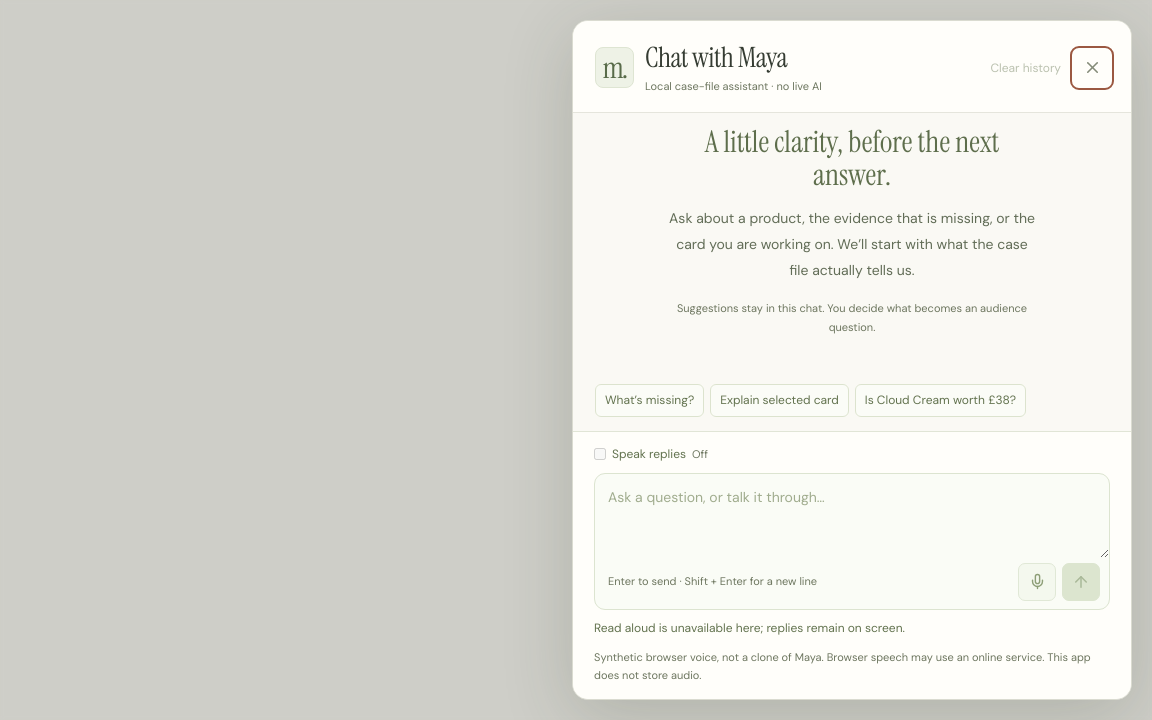
Test: chat input lifecycle with simulated browser events › retains current partial words on audio-capture error
(page scrolled)
Click the button named "Start dictation" at (1037, 582), box [1018,562,1056,600]
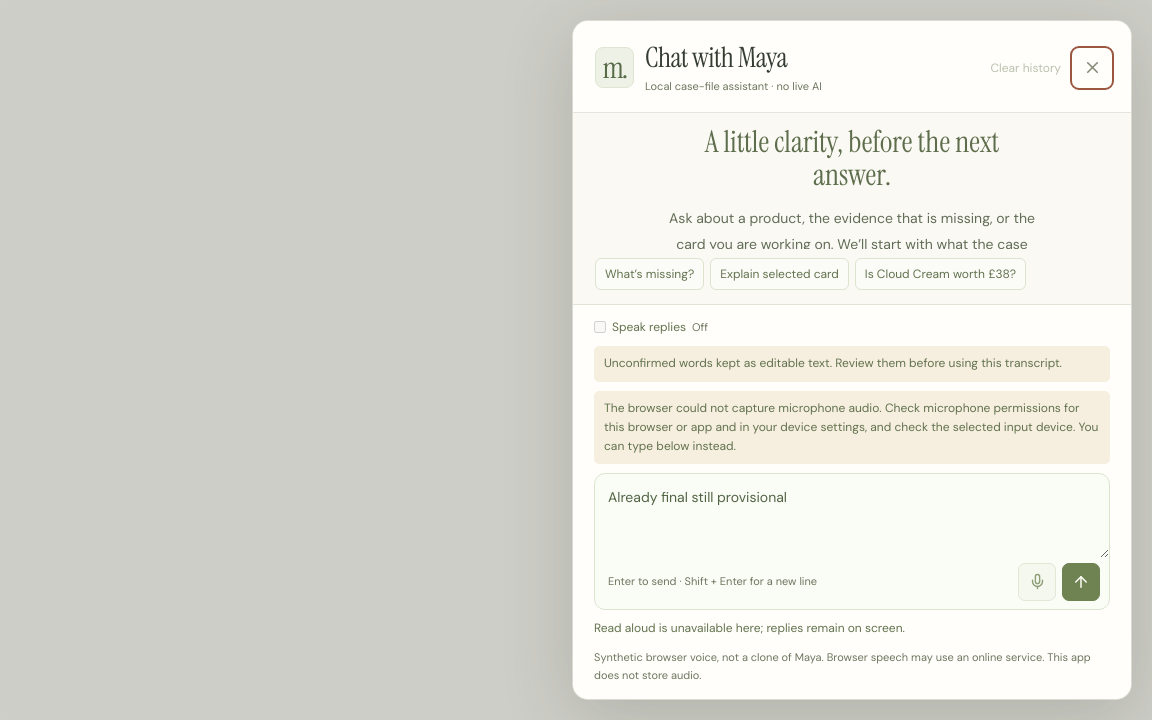
Expected: the text box holds "Already final still provisional", [595,474,1109,558]
Expected: the text "Unconfirmed words kept as editable text. Review them before using this transcript." is shown, [604,355,1062,371]
Expected: the text "could not capture microphone audio" shows "device settings", [604,400,1098,454]
